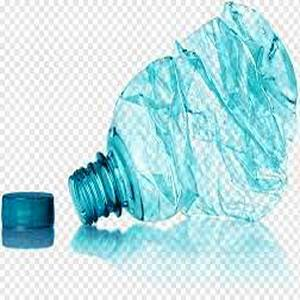Plastic: (68, 2, 295, 227)
